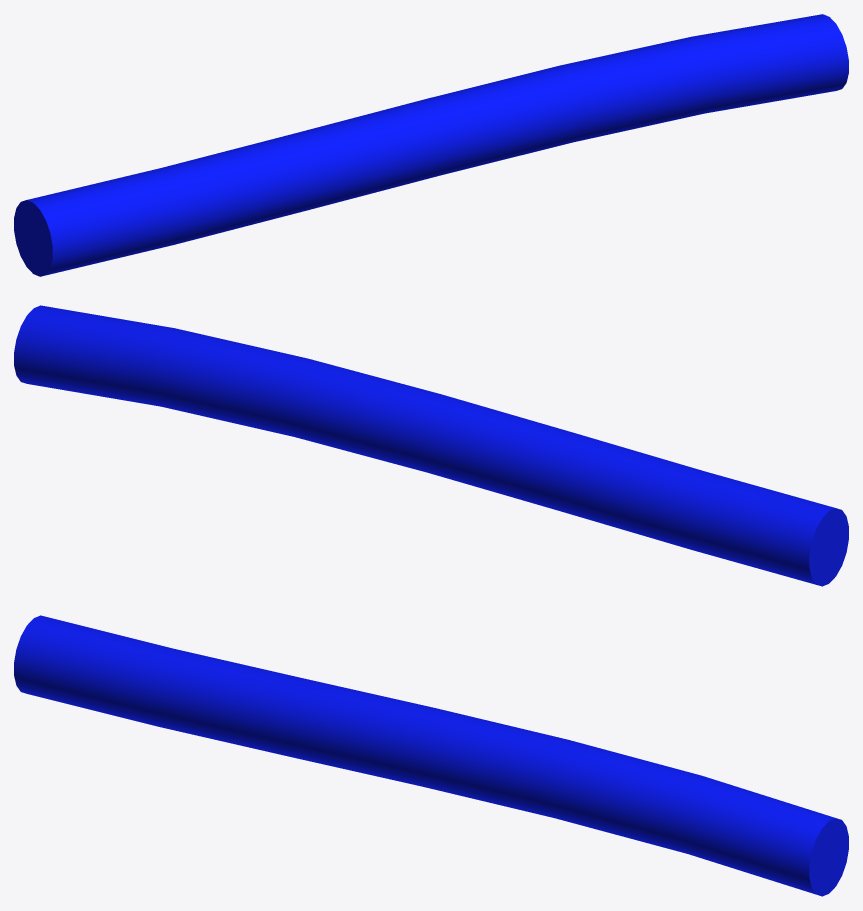
File: wood_01.FBX
The picture shows the model from 3 angles, top to bottom: view 1: azimuth 30°, elevation 25°; view 2: azimuth 150°, elevation 25°; view 3: azimuth 330°, elevation 25°; orthographic projection. The views are drawn at different scales.
Visible parts, largest first — view 1: wood_01_LP; view 2: wood_01_LP; view 3: wood_01_LP.
Part boxes in pixels (box(x1,y1,x2,y2)): wood_01_LP: box(14, 14, 848, 276); wood_01_LP: box(14, 305, 848, 586); wood_01_LP: box(14, 615, 848, 896).
Bounding box in the file's own units: 250 × 25.36 × 26.11.
